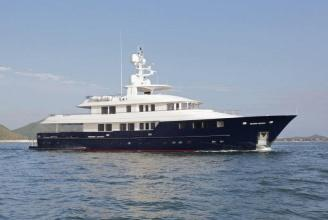yacht: (30, 46, 296, 155)
